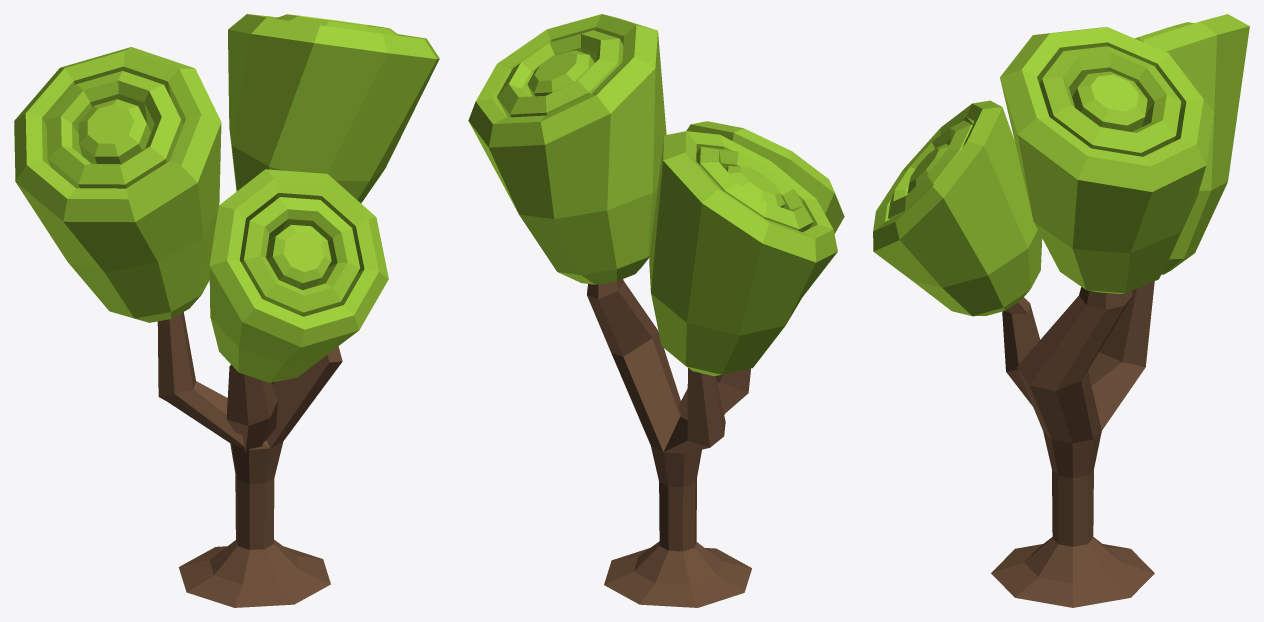
Rendered from tree1.glb.
The picture shows the model from 3 angles, left to right: view 1: azimuth 30°, elevation 25°; view 2: azimuth 150°, elevation 25°; view 3: azimuth 270°, elevation 25°; orthographic projection. The views are drawn at different scales.
Visible parts, largest first — view 1: Cylinder.001; view 2: Cylinder.001; view 3: Cylinder.001.
Part boxes in pixels (<box>): Cylinder.001: <box>14,14,439,607</box>; Cylinder.001: <box>468,14,844,607</box>; Cylinder.001: <box>873,14,1249,607</box>.
Size of the model in its own units: 9.86 by 13.6 by 8.19.
